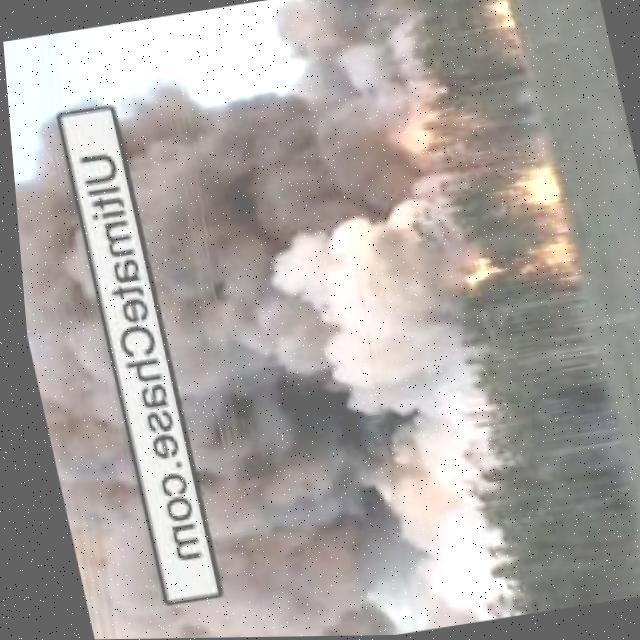Fire: (434, 174, 578, 300), (365, 104, 446, 179), (476, 0, 517, 42)
Smoke: (92, 0, 534, 639), (7, 116, 164, 640)
